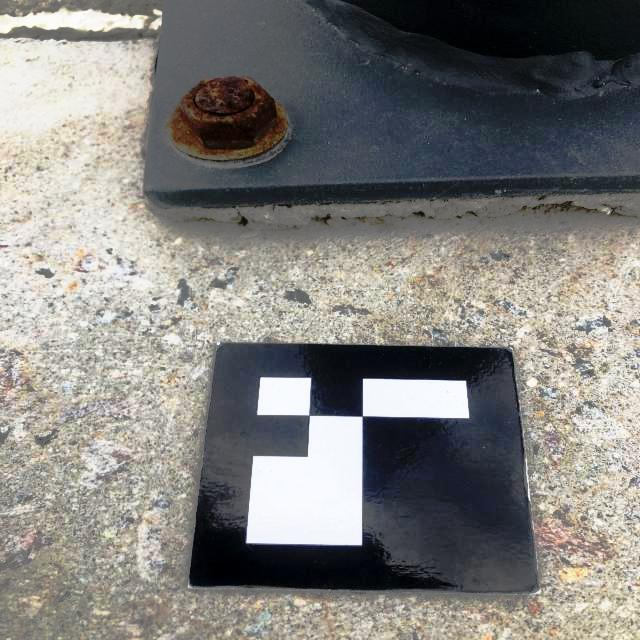Corrosion: (165, 76, 289, 161)
